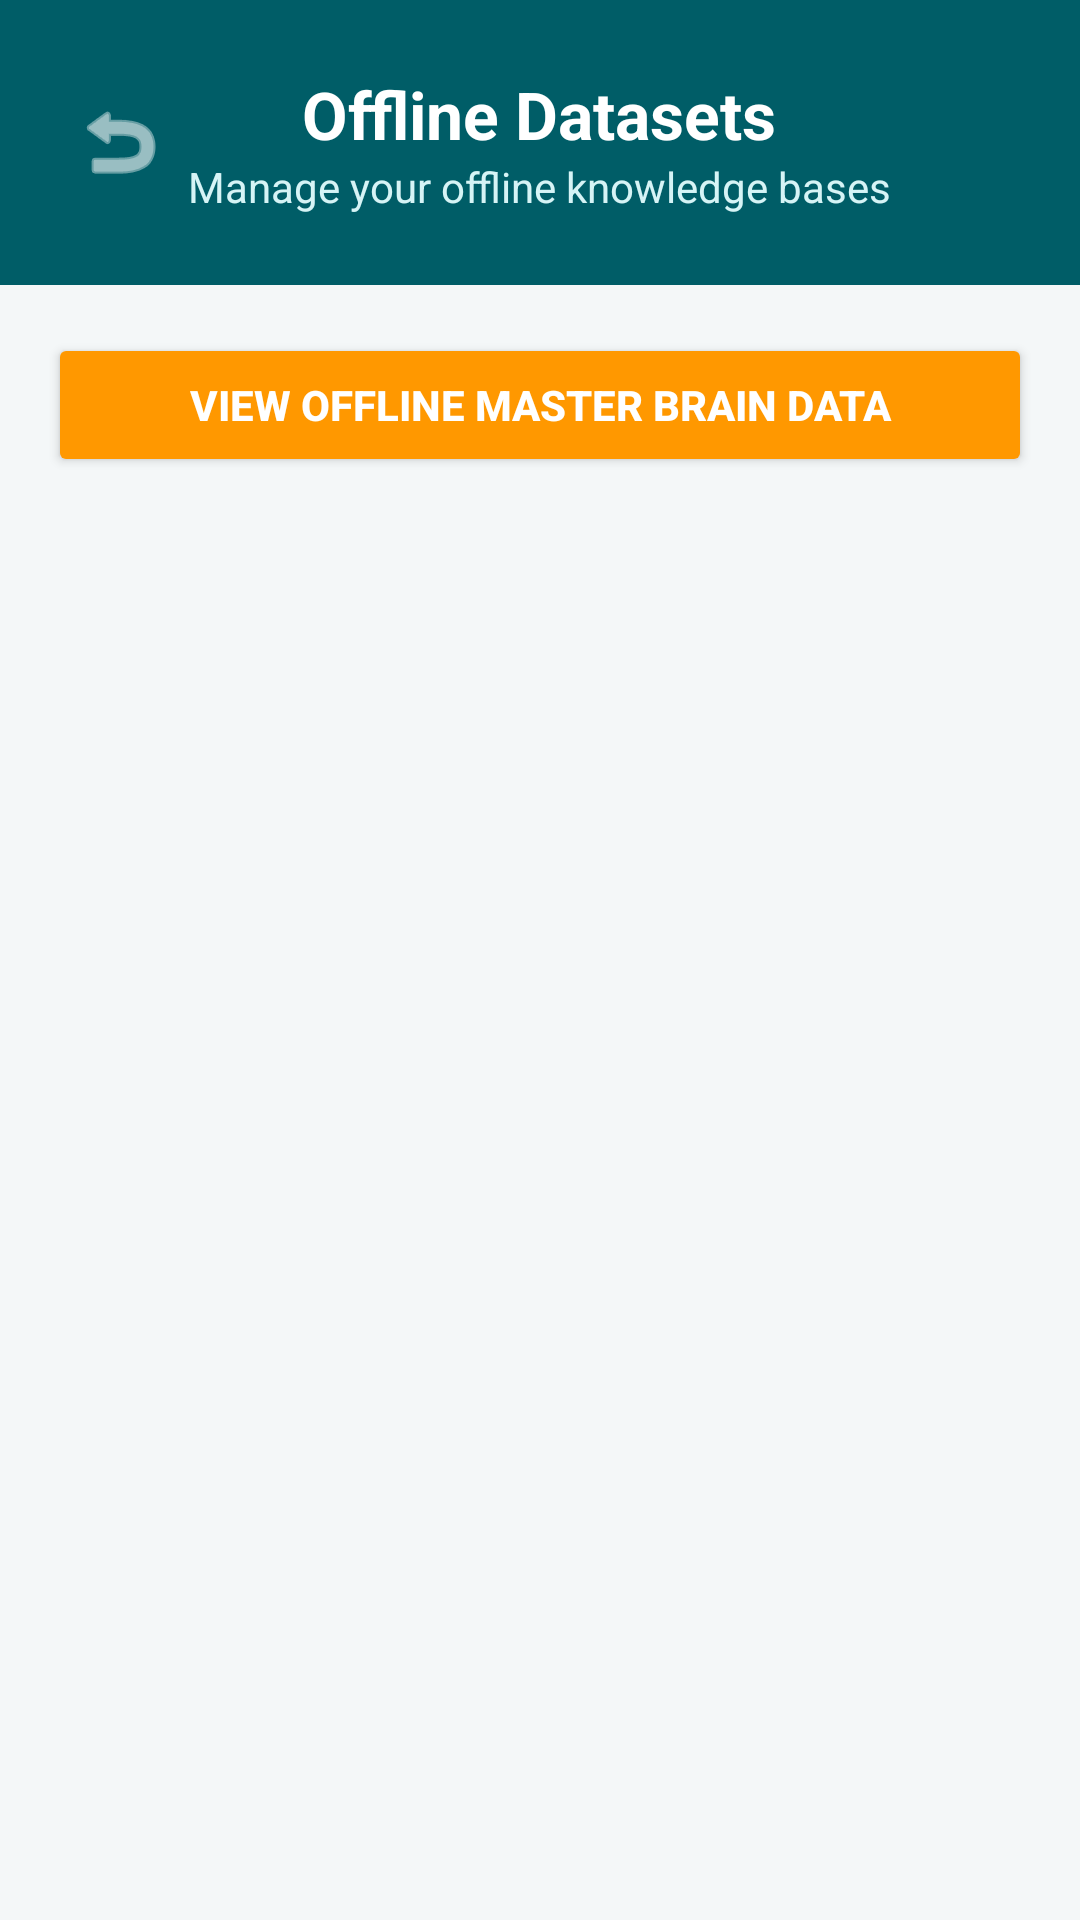

Icons on this 1080×1920 Android screen, each with the point to tap as point (x, y):
Back: point (121, 142)
